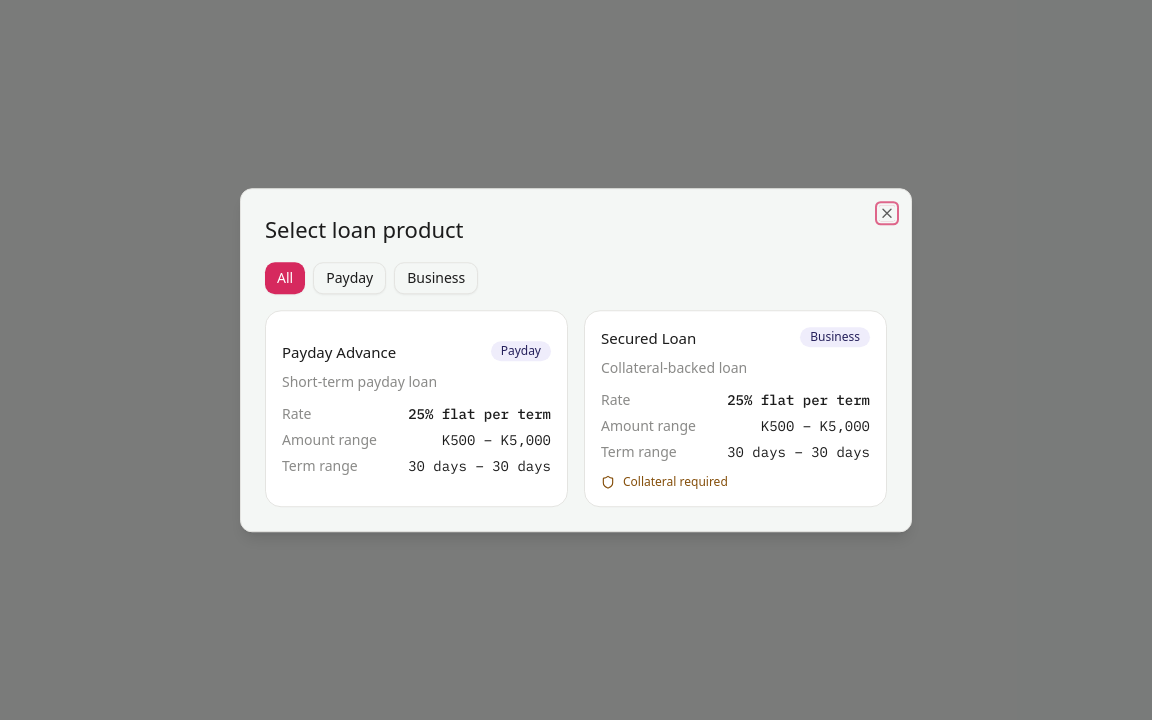
ProductBasedLoanForm › renders a collateral step for a product that requires collateral
The image size is (1152, 720).
What coordinates should you click on to do the following:
click the heading "Secured Loan"
I would click on:
 (649, 339)
Its box is [601,327,696,350].
(page scrolled)
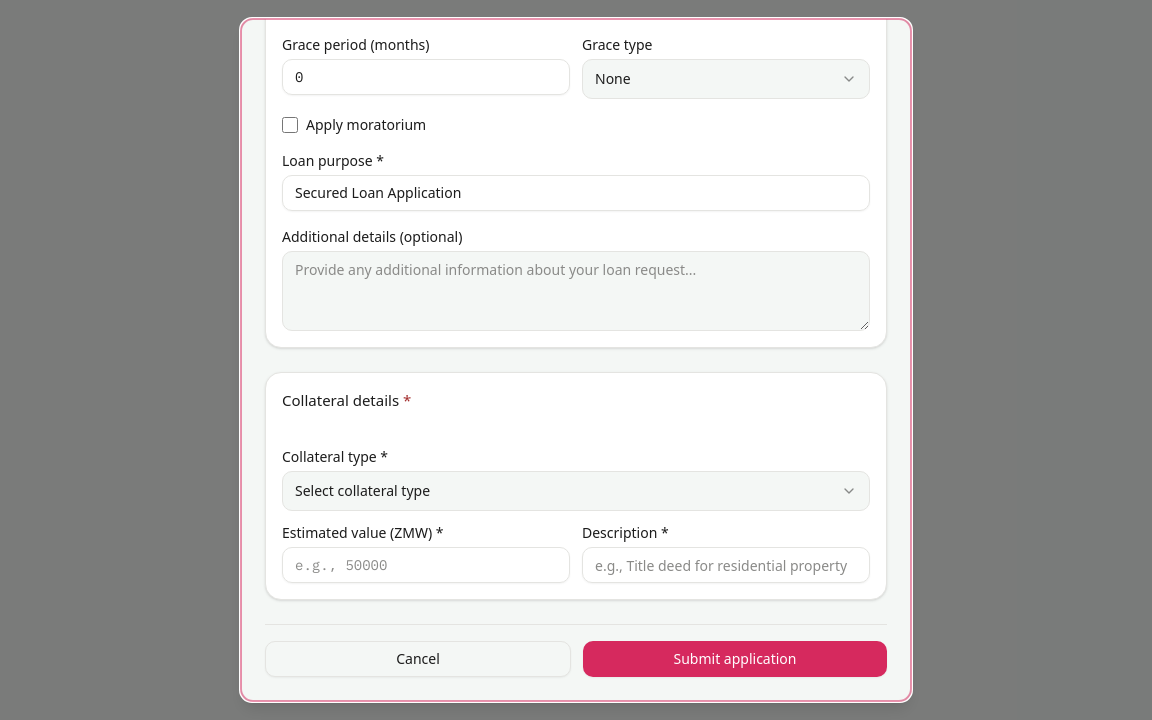
Expected: the heading "Collateral details *" is shown, [282,390,411,410]
Expected: the dropdown labelled "Select collateral type" is shown, [282,471,870,511]
